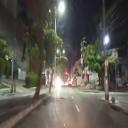NoEstacionar: (104, 58, 109, 68)
